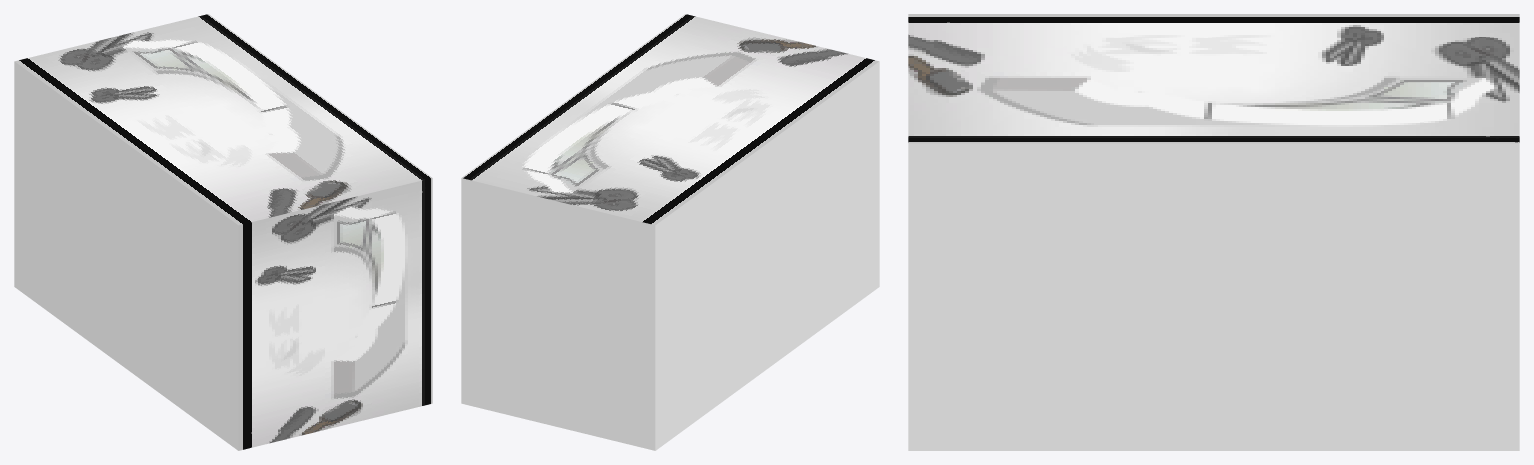
File: Building_StylingStation.glb
The picture shows the model from 3 angles, left to right: view 1: azimuth 30°, elevation 25°; view 2: azimuth 150°, elevation 25°; view 3: azimuth 270°, elevation 25°; orthographic projection. The views are drawn at different scales.
Visible parts, largest first — view 1: StylingStation; view 2: StylingStation; view 3: StylingStation.
Part boxes in pixels (x1,y1,x2,y2): StylingStation: (14,14,432,450); StylingStation: (461,14,879,450); StylingStation: (908,14,1519,450).
Size of the model in its own units: 0.9 by 1 by 1.8.
1 material, 1 textured.
